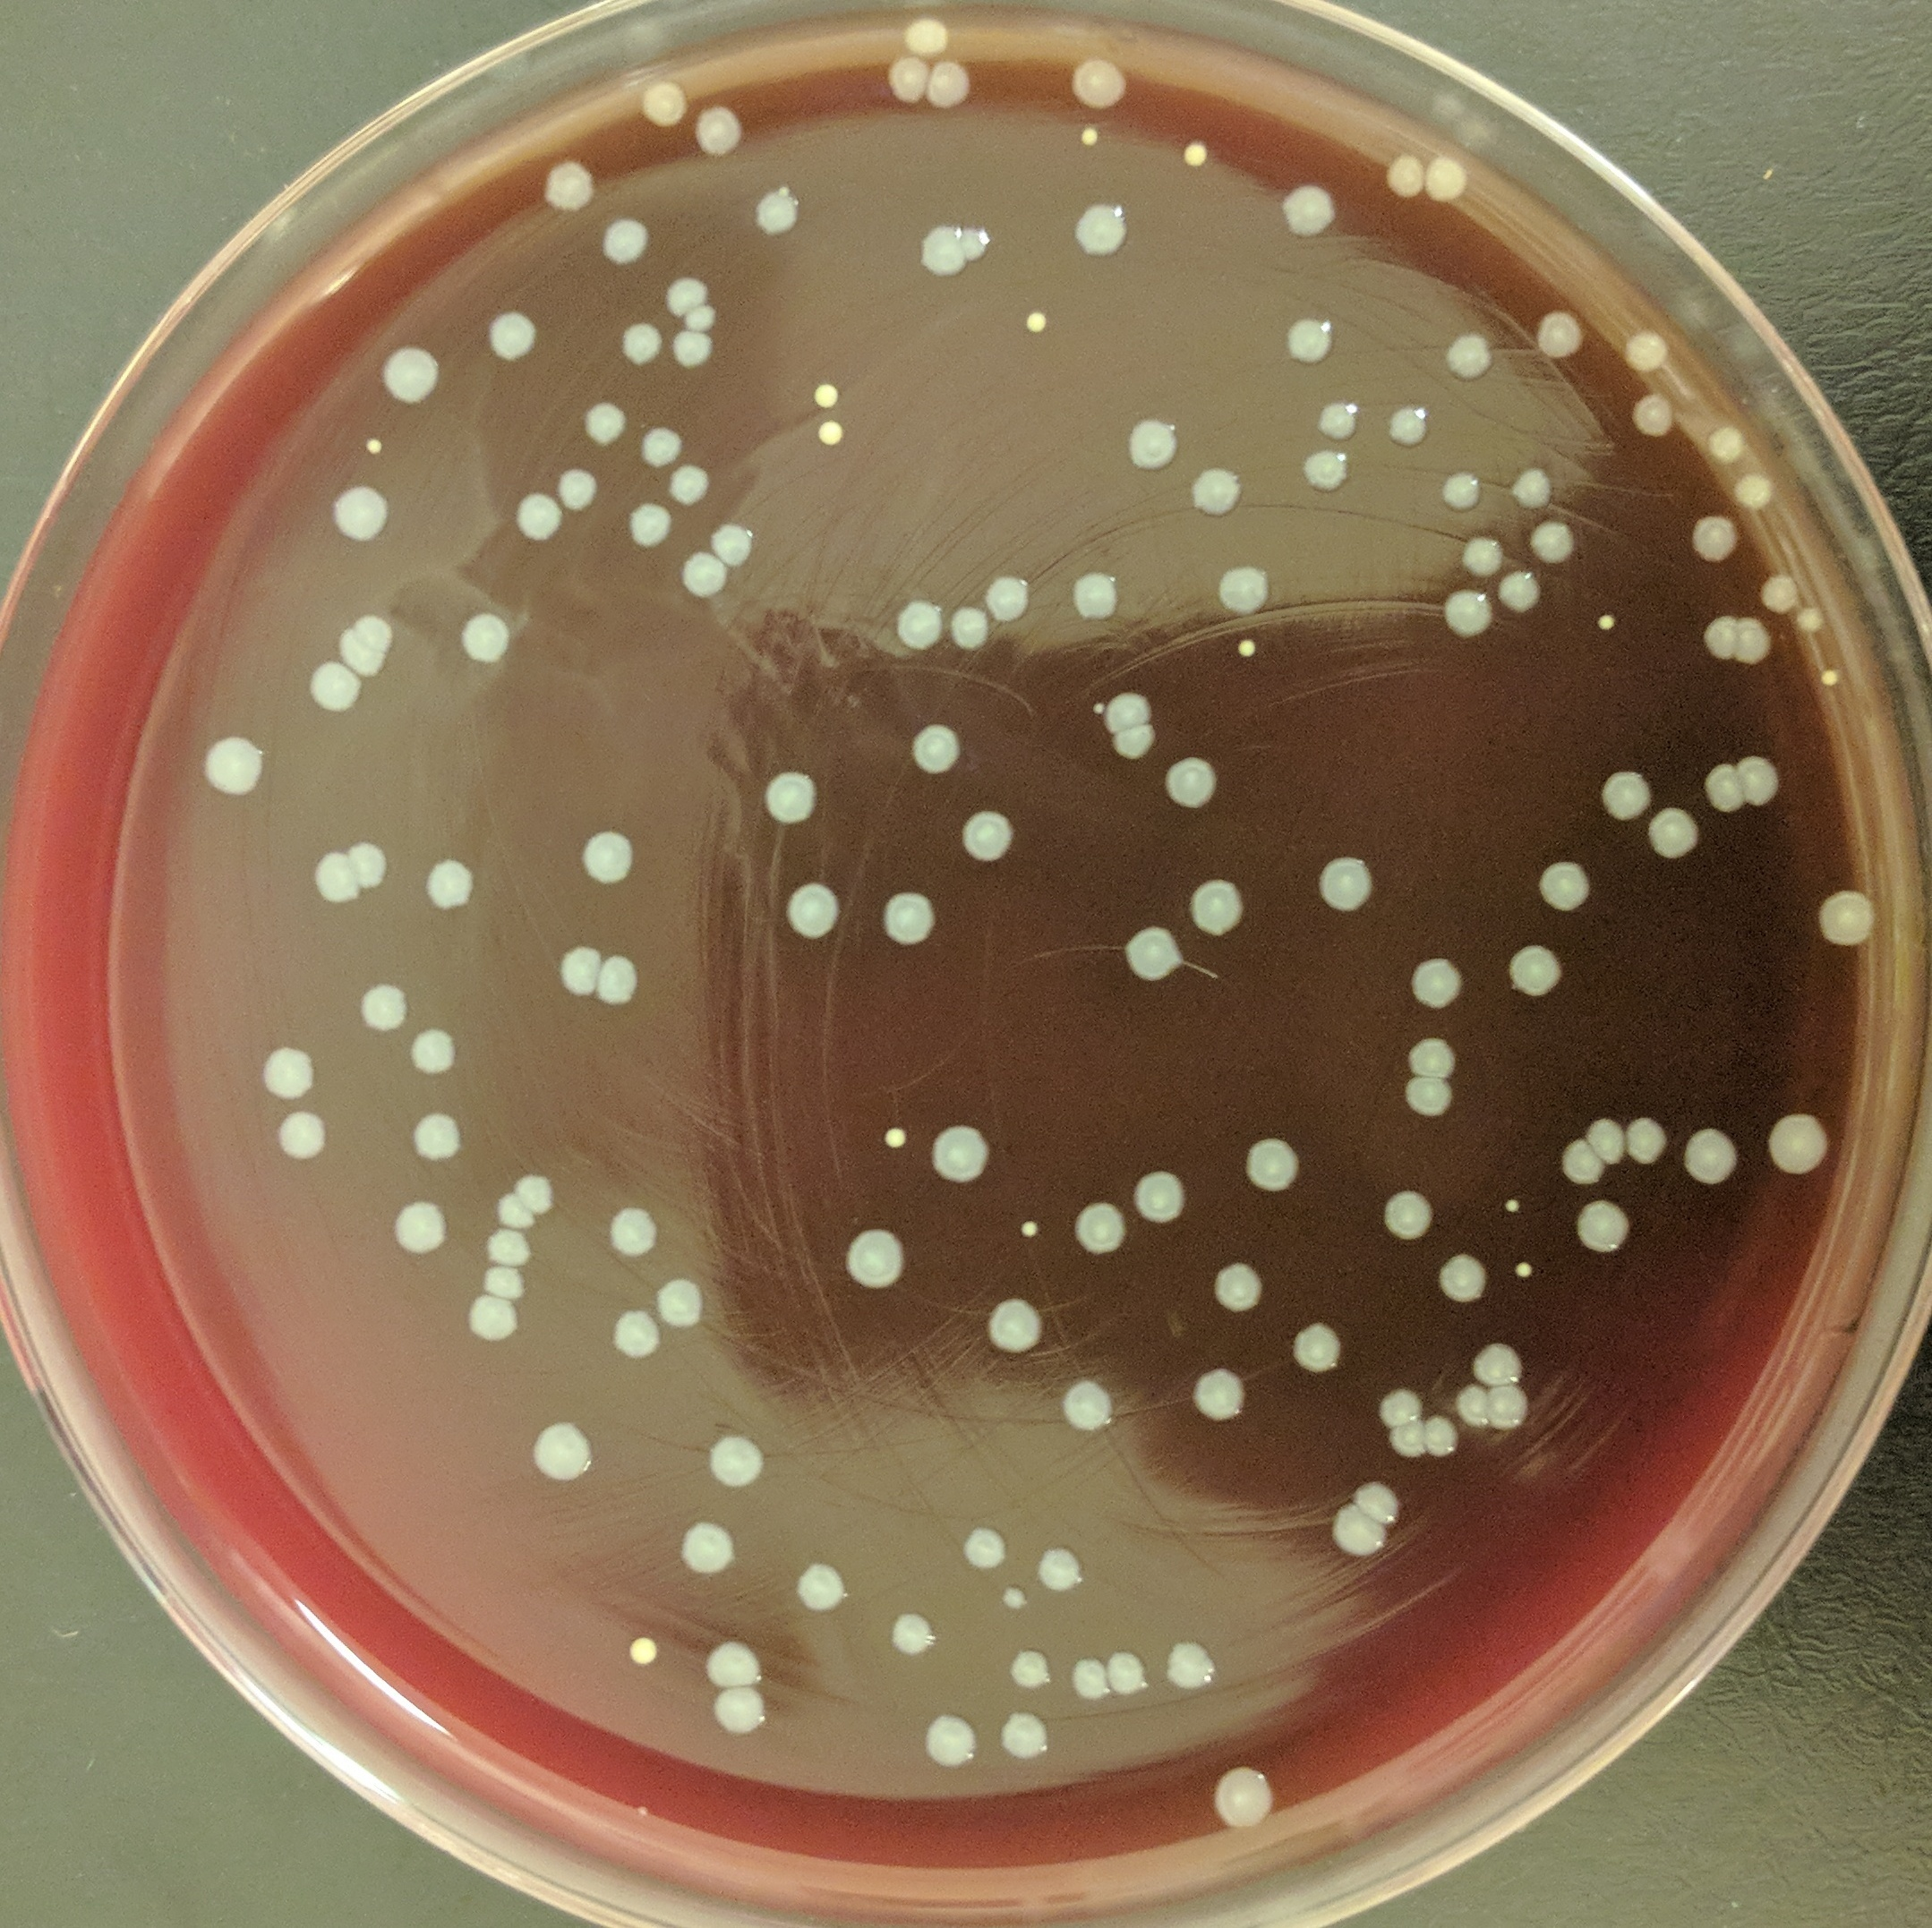sp14: (814, 1190, 934, 1329), (1051, 1361, 1164, 1458), (360, 318, 459, 427), (1800, 858, 1891, 975), (313, 586, 429, 676), (1407, 305, 1515, 401), (917, 1096, 1012, 1202), (758, 1548, 878, 1631), (507, 1400, 606, 1501), (733, 161, 821, 270), (392, 1093, 489, 1192), (231, 1019, 332, 1114), (1268, 166, 1360, 270), (313, 471, 420, 560), (290, 639, 381, 742), (1296, 826, 1388, 929), (1054, 538, 1130, 662), (1517, 837, 1614, 932), (1264, 282, 1356, 380), (761, 867, 864, 953), (1061, 26, 1166, 111), (1058, 187, 1162, 268), (265, 1089, 358, 1179), (740, 747, 846, 826), (1174, 858, 1263, 953), (962, 1273, 1049, 1370), (1227, 1116, 1309, 1216), (660, 1502, 747, 1596), (1104, 908, 1189, 1001), (945, 793, 1040, 876), (689, 1393, 768, 1492), (1754, 1093, 1838, 1185), (1113, 1148, 1190, 1246), (895, 212, 987, 295), (189, 713, 270, 807), (899, 1688, 982, 1778), (1190, 1739, 1280, 1822), (367, 1186, 454, 1269), (1174, 1345, 1256, 1434), (1151, 740, 1250, 812), (1655, 498, 1747, 576), (692, 1677, 793, 1748), (535, 136, 602, 242), (1572, 747, 1665, 823), (936, 1494, 1019, 1578), (562, 807, 643, 892), (1061, 1172, 1132, 1269), (434, 606, 539, 671), (1489, 930, 1582, 1003), (1189, 554, 1279, 629), (620, 55, 692, 147), (922, 48, 994, 139), (1715, 731, 1787, 823), (1665, 1111, 1747, 1192), (1360, 1176, 1441, 1257), (1614, 367, 1699, 445), (1513, 290, 1591, 373), (1600, 311, 1685, 387), (1399, 934, 1475, 1019), (1415, 447, 1494, 526), (1270, 1296, 1344, 1381), (586, 1194, 683, 1257), (895, 697, 975, 773), (1111, 406, 1185, 486), (692, 1621, 782, 1686), (1632, 802, 1713, 874), (650, 1257, 724, 1335), (1556, 1185, 1635, 1257), (671, 92, 752, 162), (588, 207, 652, 297), (952, 207, 1021, 290), (1026, 1522, 1090, 1610), (452, 1289, 533, 1358), (475, 286, 549, 360), (532, 454, 606, 528), (1422, 1236, 1489, 1317), (991, 1698, 1058, 1778), (505, 477, 569, 560), (874, 583, 938, 666), (1611, 1084, 1664, 1183), (1363, 138, 1429, 217), (413, 851, 480, 927), (1383, 1019, 1473, 1075), (1291, 431, 1356, 508), (876, 1587, 938, 1668), (1429, 577, 1501, 646), (1692, 403, 1768, 468), (475, 1225, 551, 1291), (655, 542, 729, 607), (355, 968, 417, 1045), (1208, 1239, 1261, 1329), (964, 561, 1035, 629), (1411, 150, 1478, 221), (1298, 392, 1370, 457), (1503, 436, 1565, 512), (616, 491, 687, 556), (549, 923, 597, 1017), (344, 816, 396, 902), (632, 406, 699, 471), (1517, 514, 1582, 581), (472, 1255, 542, 1317), (410, 1020, 477, 1084), (664, 452, 728, 519), (563, 383, 632, 445), (1542, 1121, 1604, 1190), (655, 254, 726, 314), (1183, 471, 1256, 530), (1377, 387, 1434, 461), (1098, 722, 1162, 786), (1720, 614, 1780, 682), (1106, 1635, 1157, 1713), (1446, 523, 1521, 576), (1727, 468, 1787, 533), (507, 1153, 565, 1220), (600, 305, 659, 373), (883, 885, 945, 946), (298, 840, 353, 909), (936, 597, 994, 660), (701, 512, 766, 569), (1460, 1335, 1533, 1384), (987, 1635, 1047, 1693), (606, 1307, 664, 1365), (1561, 1109, 1618, 1169), (489, 1183, 549, 1239), (1750, 556, 1812, 611), (1685, 599, 1734, 666), (1169, 1633, 1224, 1693), (1498, 569, 1547, 634), (980, 1571, 1033, 1630), (1061, 1649, 1107, 1716), (1369, 1361, 1423, 1416), (1326, 1513, 1386, 1563), (1487, 1388, 1538, 1444), (878, 49, 927, 108), (599, 941, 639, 1012), (1400, 1073, 1460, 1121), (1407, 1409, 1457, 1465), (1441, 1358, 1476, 1435), (1355, 1474, 1406, 1525), (1093, 697, 1167, 733)
